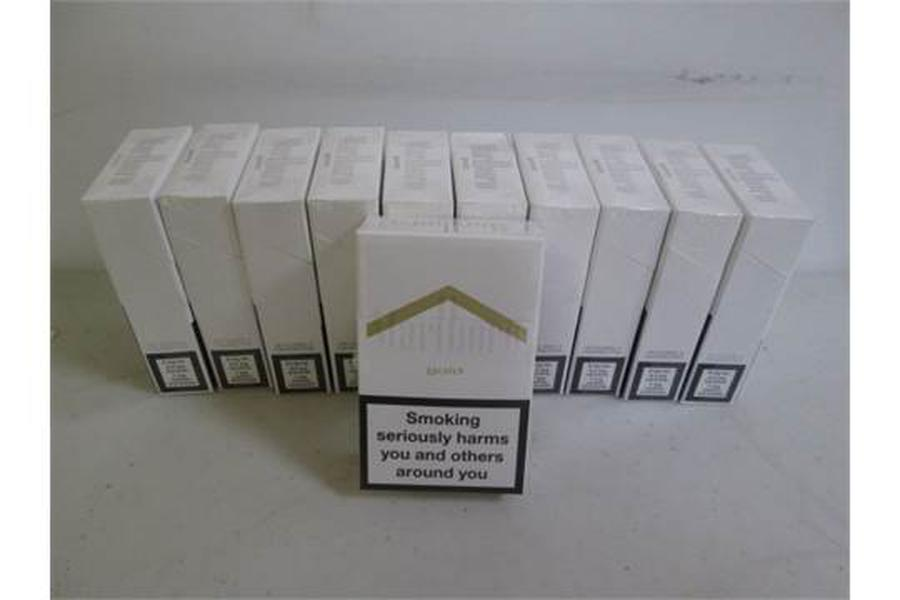marlboro_gold: (363, 238, 527, 492)
